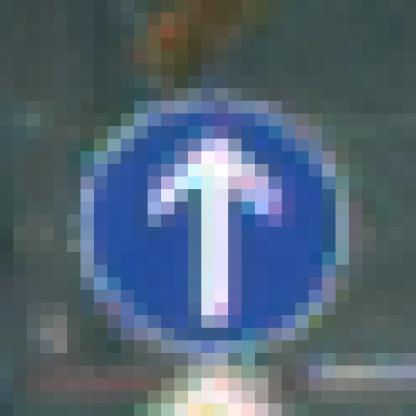straight: (40, 75, 376, 366)
